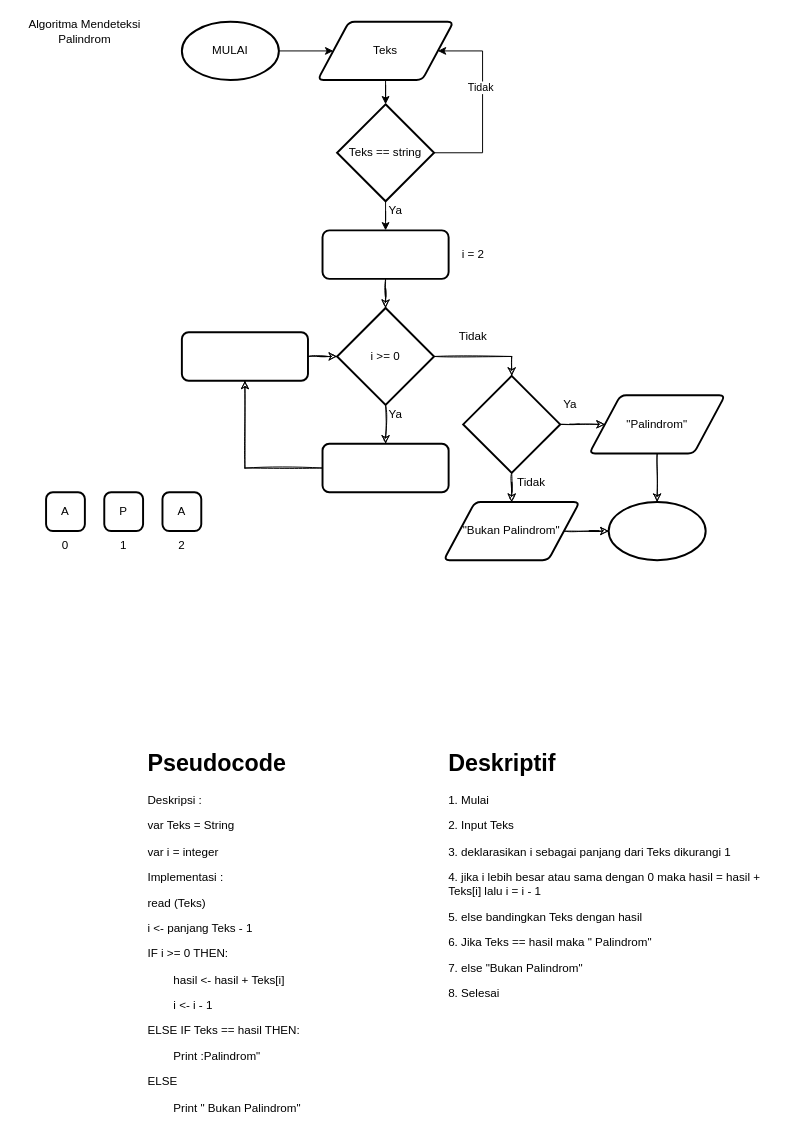
Image size: 809x1148. Some labels were removed from this diagram. The shapes that lost their labels are listed below. From the top down, each one's box as (x1, y1, x2, y2) in pixels, then its label:
(321, 229, 449, 279): i = Teks.length - 1
(180, 331, 308, 381): i = i - 1
(462, 374, 561, 473): Teks == hasil
(321, 442, 449, 493): hasil = hasil + Teks[i]
(607, 501, 706, 561): SELESAI
